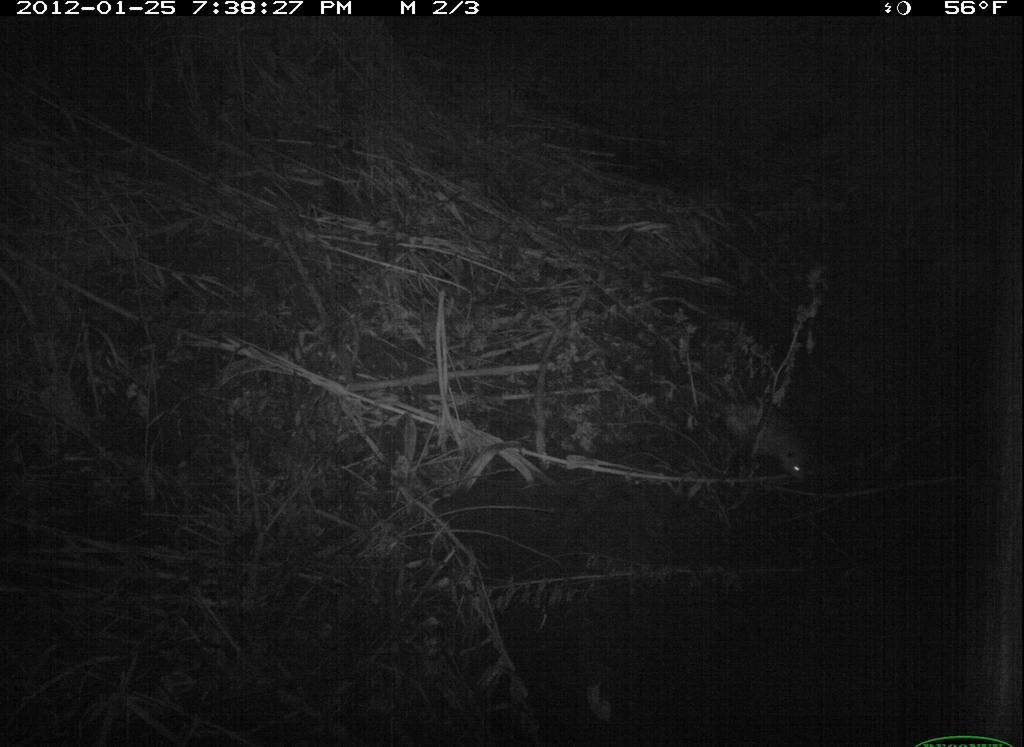opossum: (687, 355, 822, 500)
